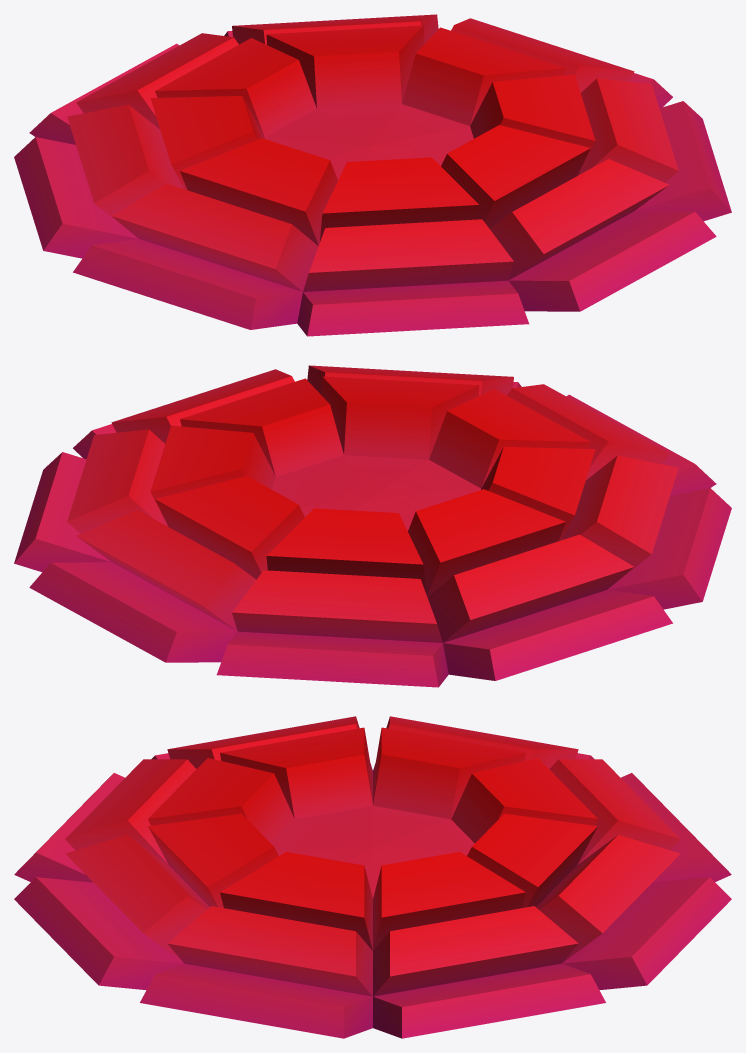
File: anemone_far1.fbx
3 renders of one model, top to bottom at view 1: azimuth 30°, elevation 25°; view 2: azimuth 150°, elevation 25°; view 3: azimuth 270°, elevation 25°, orthographic.
Parts seen in each view (by area): view 1: anemone_far1; view 2: anemone_far1; view 3: anemone_far1.
Part boxes in pixels (<box>): anemone_far1: <box>14,14,731,336</box>; anemone_far1: <box>14,365,731,687</box>; anemone_far1: <box>14,716,731,1038</box>.
Size of the model in its own units: 0.0588 by 0.00868 by 0.0588.
1 material, 1 textured.
